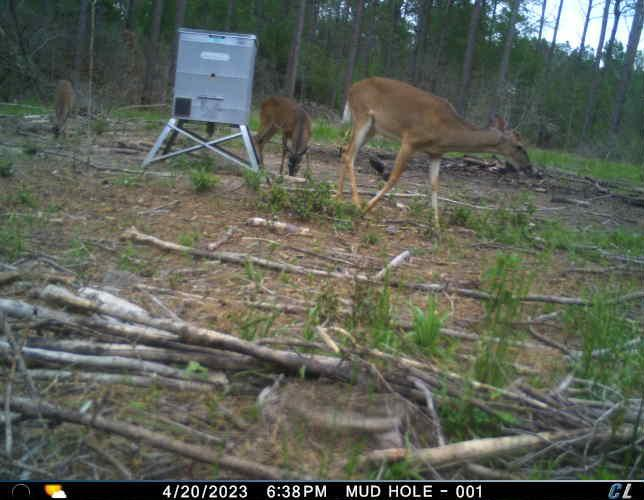Deer: (333, 73, 540, 233), (252, 93, 316, 180), (41, 76, 79, 149)
